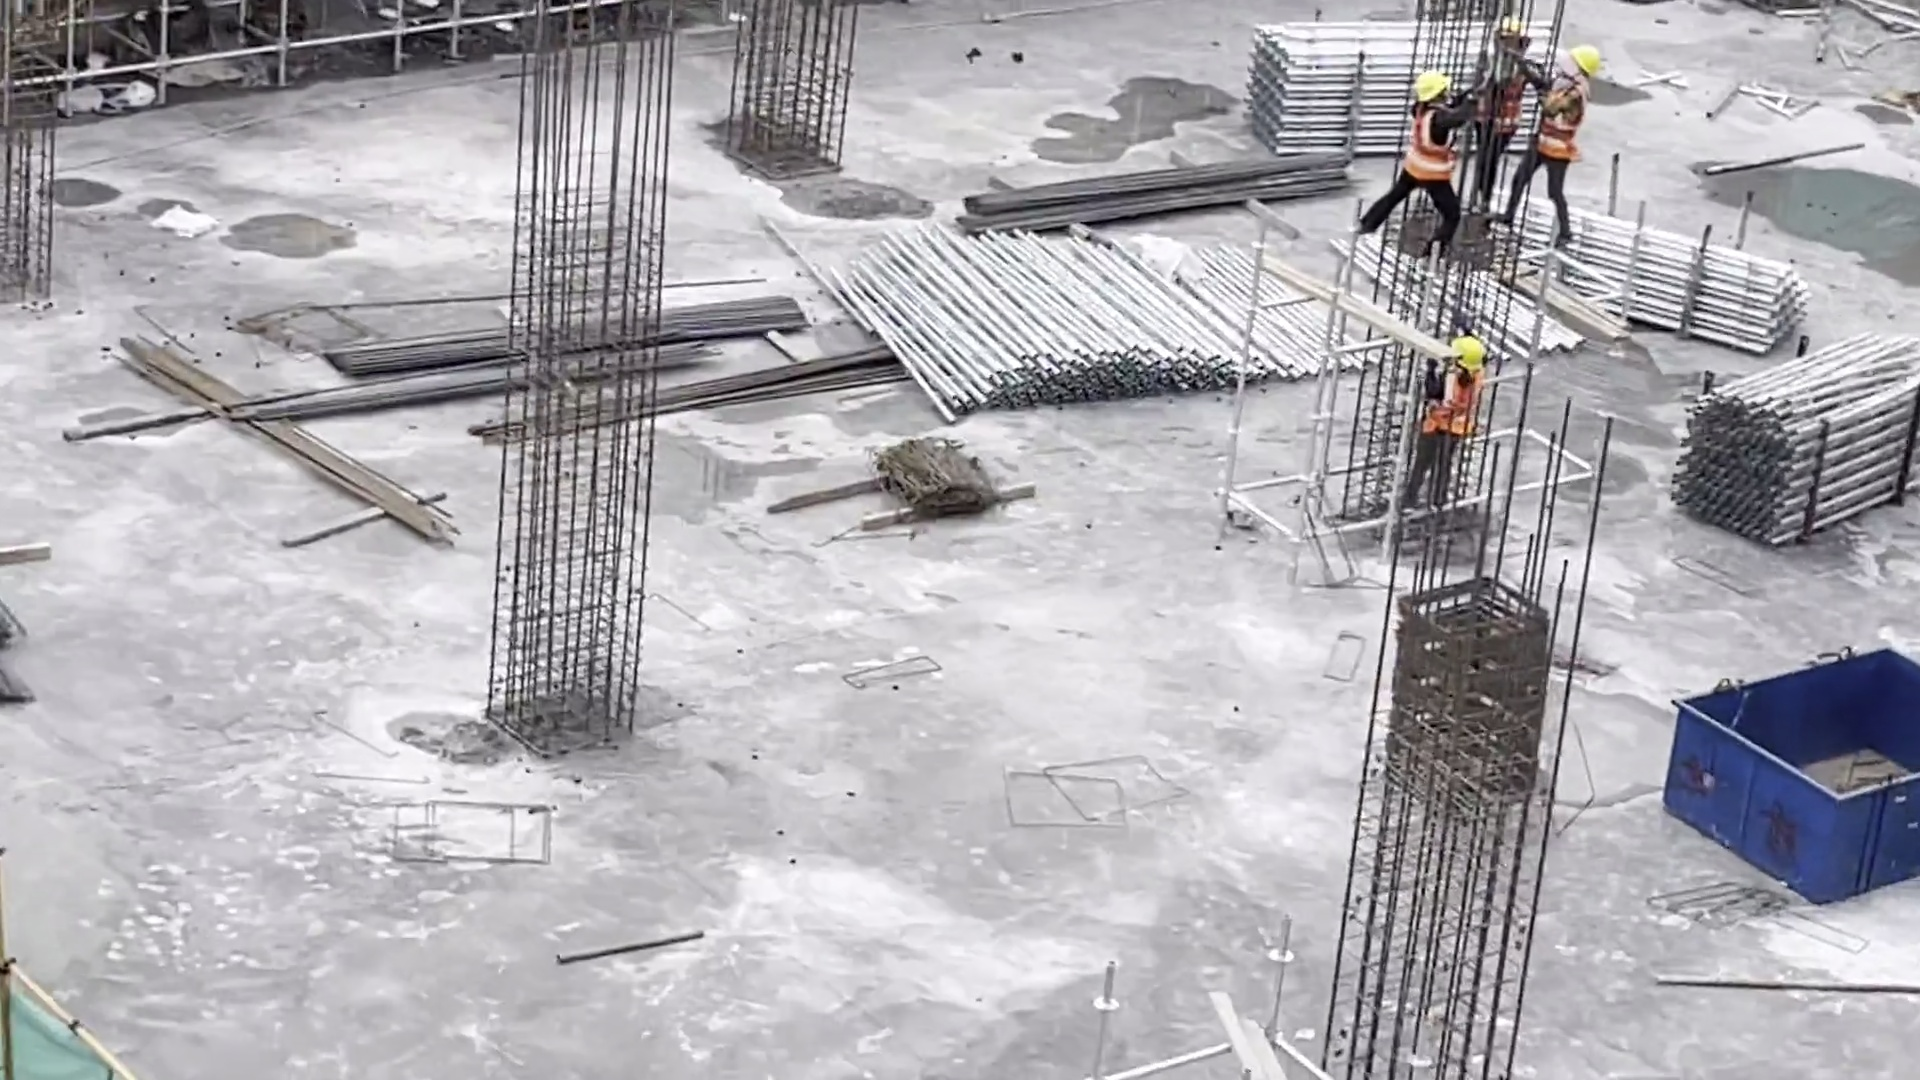helmet: (1575, 39, 1607, 80), (1499, 22, 1532, 58), (1448, 342, 1488, 371), (1414, 72, 1449, 102)
hopper: (1658, 624, 1920, 909)
person: (1506, 43, 1607, 239), (1399, 340, 1491, 515), (1378, 72, 1466, 254), (1454, 26, 1537, 191)
rebar: (481, 356, 910, 458), (236, 338, 700, 428), (328, 301, 807, 385), (962, 156, 1360, 237)
scaffold: (833, 213, 1382, 406), (1655, 308, 1920, 551), (1452, 183, 1804, 326), (1240, 1, 1555, 146)
vest: (1430, 368, 1482, 436), (1403, 106, 1451, 179)
